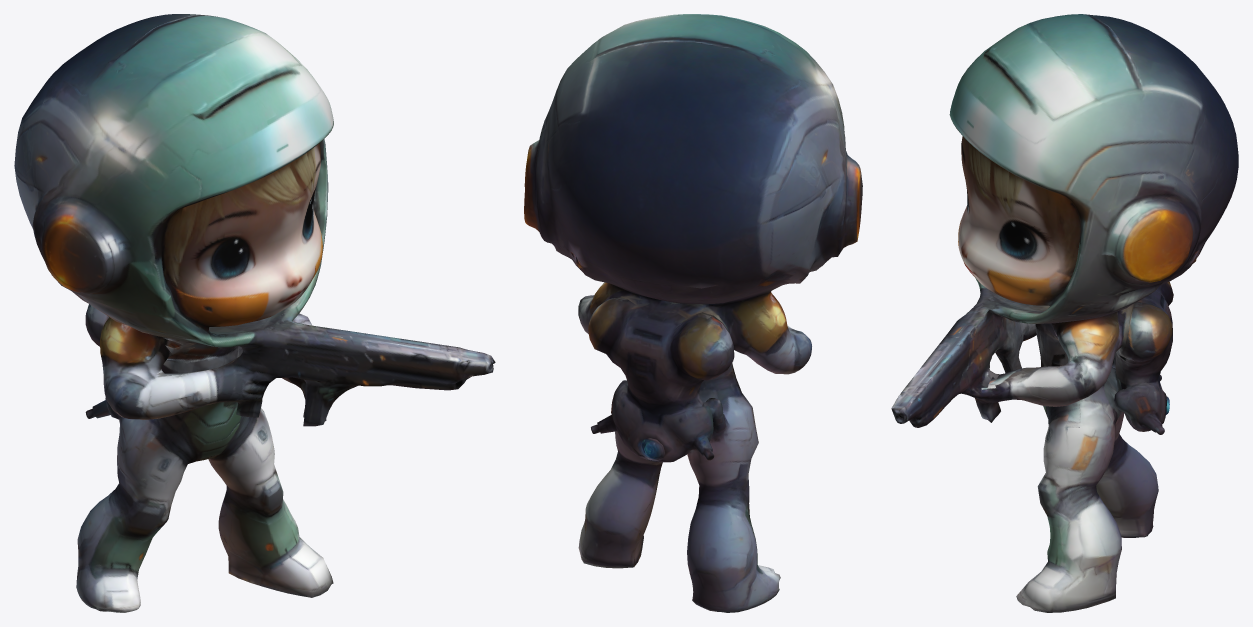
The model's file is shump_player_0225124824_texture.fbx.
3 renders of one model, left to right at view 1: azimuth 30°, elevation 25°; view 2: azimuth 150°, elevation 25°; view 3: azimuth 270°, elevation 25°, orthographic. The views are drawn at different scales.
Visible parts, largest first — view 1: Mesh_0.001; view 2: Mesh_0.001; view 3: Mesh_0.001.
Part boxes in pixels (x1,y1,x2,y2): Mesh_0.001: [14, 14, 495, 612]; Mesh_0.001: [524, 14, 862, 612]; Mesh_0.001: [891, 14, 1238, 612].
Bounding box in the file's own units: 136 × 200 × 120.
1 material, 1 textured.
